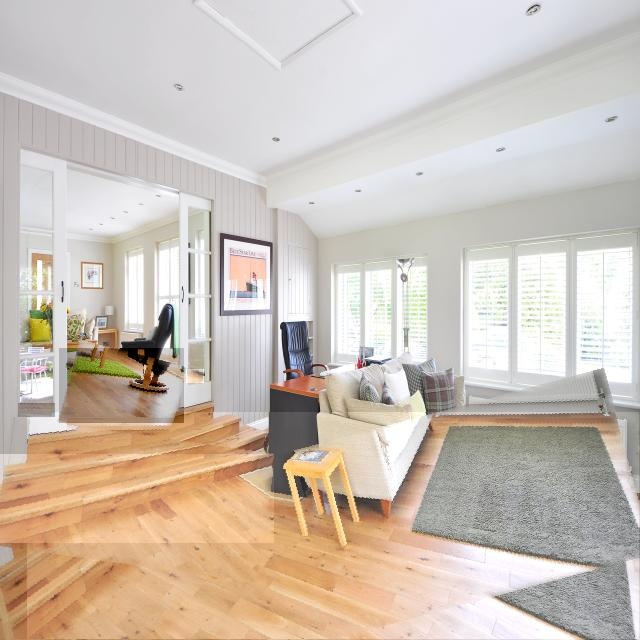floor: (28, 412, 639, 640), (0, 454, 274, 543), (59, 349, 184, 423), (19, 404, 55, 417), (187, 369, 204, 383), (67, 360, 83, 371), (85, 360, 91, 367), (145, 365, 147, 374), (91, 361, 93, 366)
